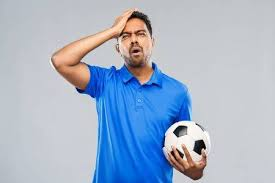Indian_Male: (119, 24, 152, 72)
